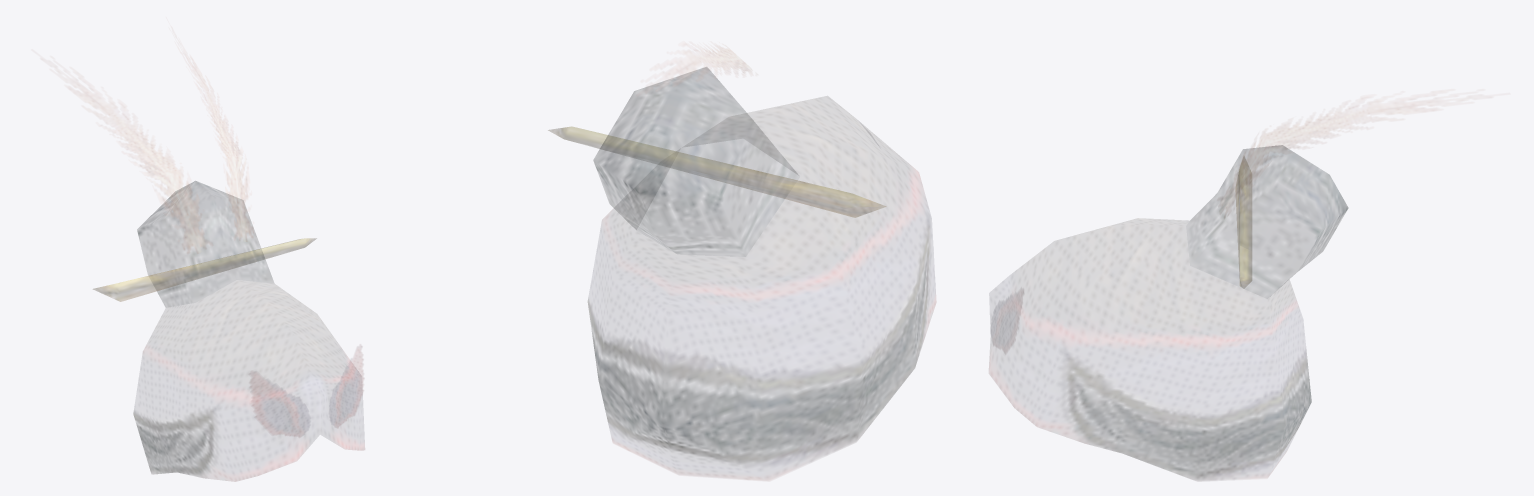
Rendered from light_02_ha.glb.
3 views of the same model, side by side, from view 1: azimuth 30°, elevation 25°; view 2: azimuth 150°, elevation 25°; view 3: azimuth 270°, elevation 25° (orthographic). The views are drawn at different scales.
Visible parts, largest first — view 1: Light_02_ha; view 2: Light_02_ha; view 3: Light_02_ha.
Part boxes in pixels (bbox=[...]): Light_02_ha: bbox=[42, 33, 364, 481]; Light_02_ha: bbox=[548, 43, 935, 479]; Light_02_ha: bbox=[989, 94, 1491, 480].
Size of the model in its own units: 0.1806 by 0.2646 by 0.3143.
Materials: 1 (1 with a texture image).
